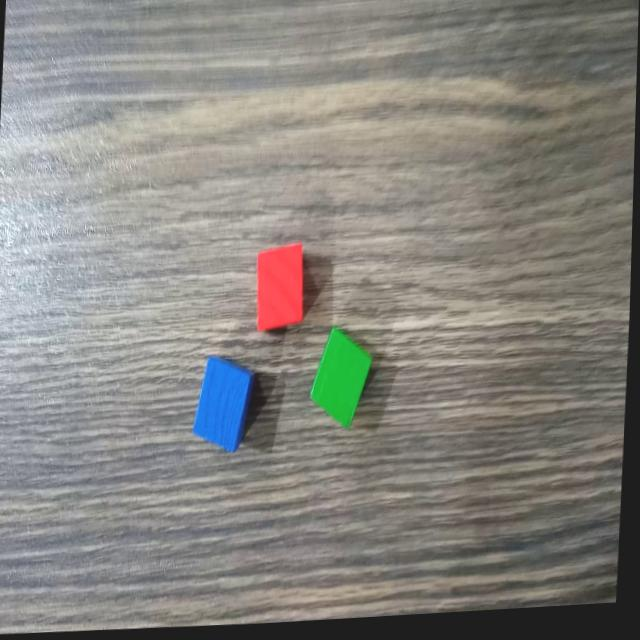cube: (308, 321, 381, 440), (190, 349, 261, 465), (252, 240, 311, 339)
